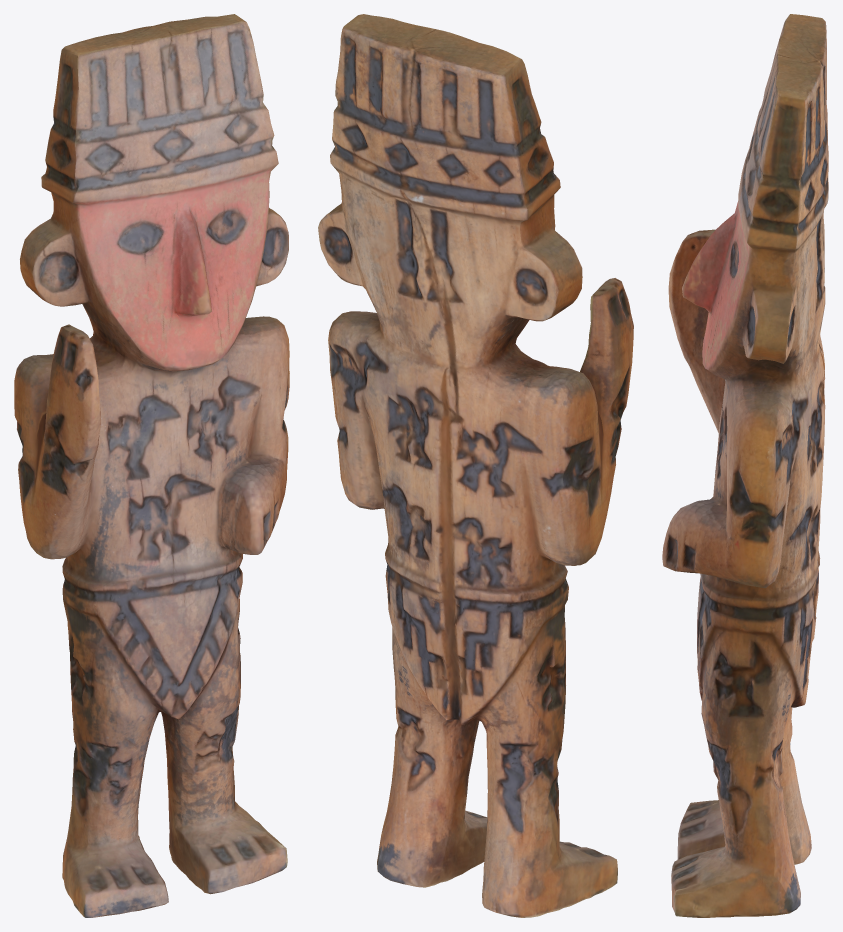
3 renders of one model, left to right at view 1: azimuth 30°, elevation 25°; view 2: azimuth 150°, elevation 25°; view 3: azimuth 270°, elevation 25°, orthographic. The views are drawn at different scales.
Visible parts, largest first — view 1: Object_2; view 2: Object_2; view 3: Object_2.
Part boxes in pixels (x1,y1,x2,y2): Object_2: (14,14,289,917); Object_2: (318,14,633,917); Object_2: (662,14,828,917).
Bounding box in the file's own units: 1.27 × 3.86 × 0.6935.
1 material, 1 textured.
